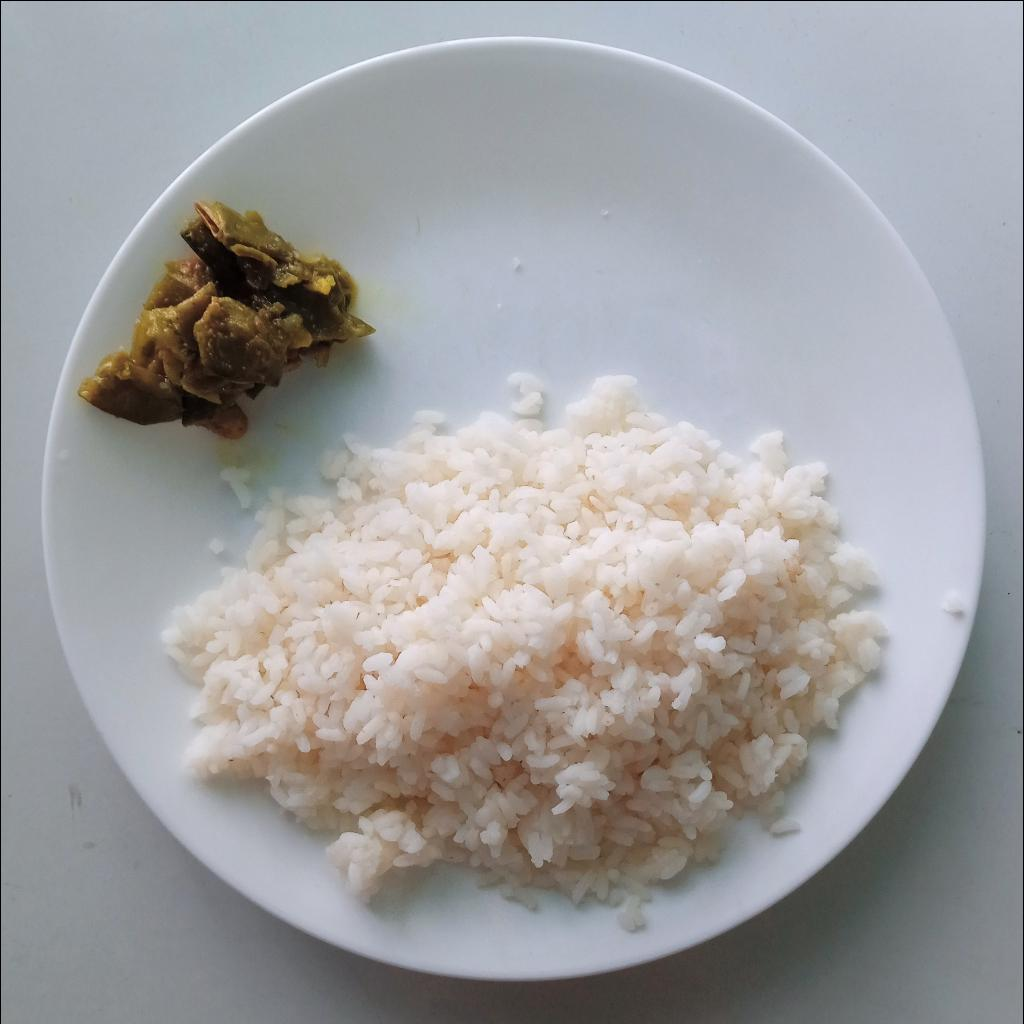rice: (161, 370, 887, 927)
shim: (79, 203, 372, 431)
